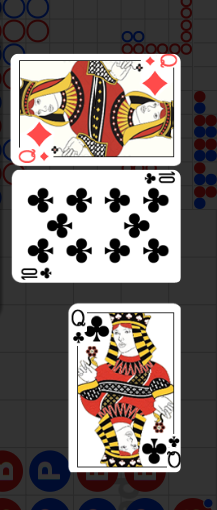10C: (20, 265, 54, 280)
JC: (166, 434, 180, 466)
QD: (134, 66, 181, 110), (14, 133, 60, 177)
